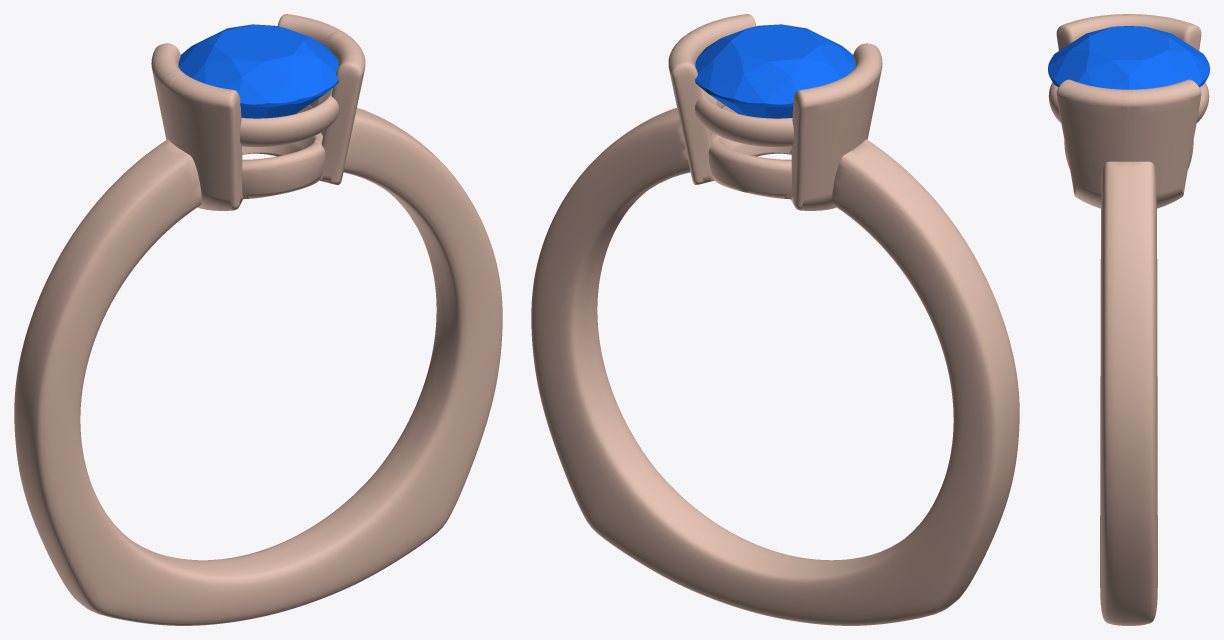
Rendered from bluesapphire-round-rosegold-halfmoonbezel-europeanshank-nosidestones.glb.
3 renders of one model, left to right at view 1: azimuth 30°, elevation 25°; view 2: azimuth 150°, elevation 25°; view 3: azimuth 270°, elevation 25°, orthographic. The views are drawn at different scales.
Visible parts, largest first — view 1: metal, stone; view 2: metal, stone; view 3: metal, stone.
Part boxes in pixels (x1=…): metal: x1=14, y1=14, x2=502, y2=625; stone: x1=178, y1=24, x2=338, y2=118; metal: x1=531, y1=14, x2=1019, y2=625; stone: x1=695, y1=24, x2=855, y2=118; metal: x1=1048, y1=14, x2=1209, y2=625; stone: x1=1048, y1=26, x2=1209, y2=89.
Bounding box in the file's own units: 20.7 × 23.81 × 6.44.
